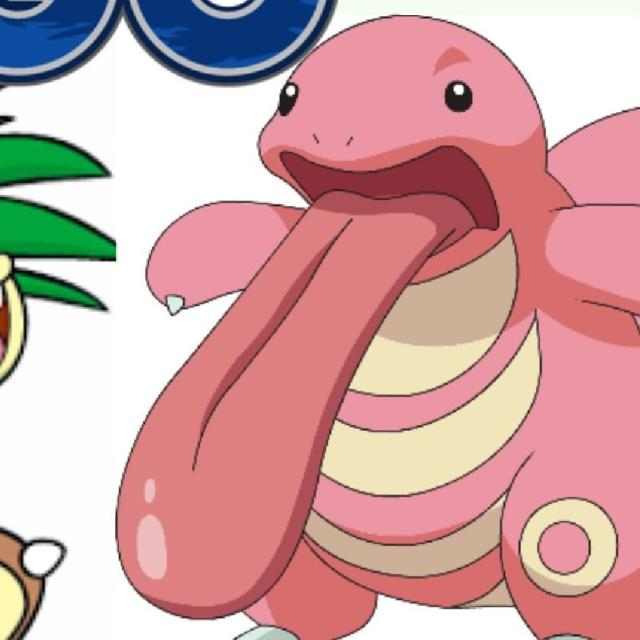Lickitung: (130, 16, 640, 640)
